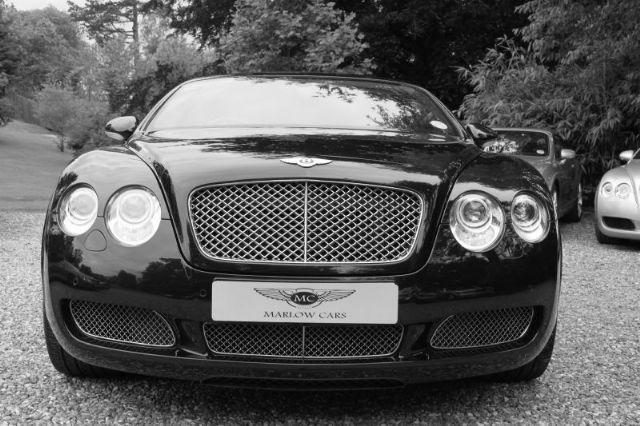car: (49, 77, 562, 390)
